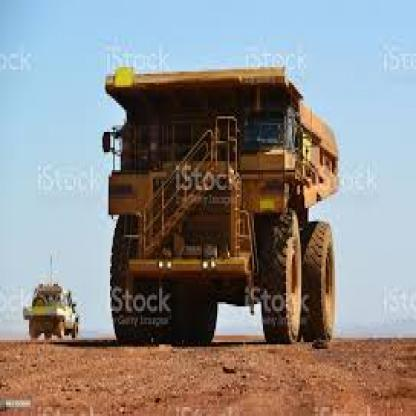dump_truck: (92, 54, 352, 349)
light_vehicle: (11, 273, 86, 353)
